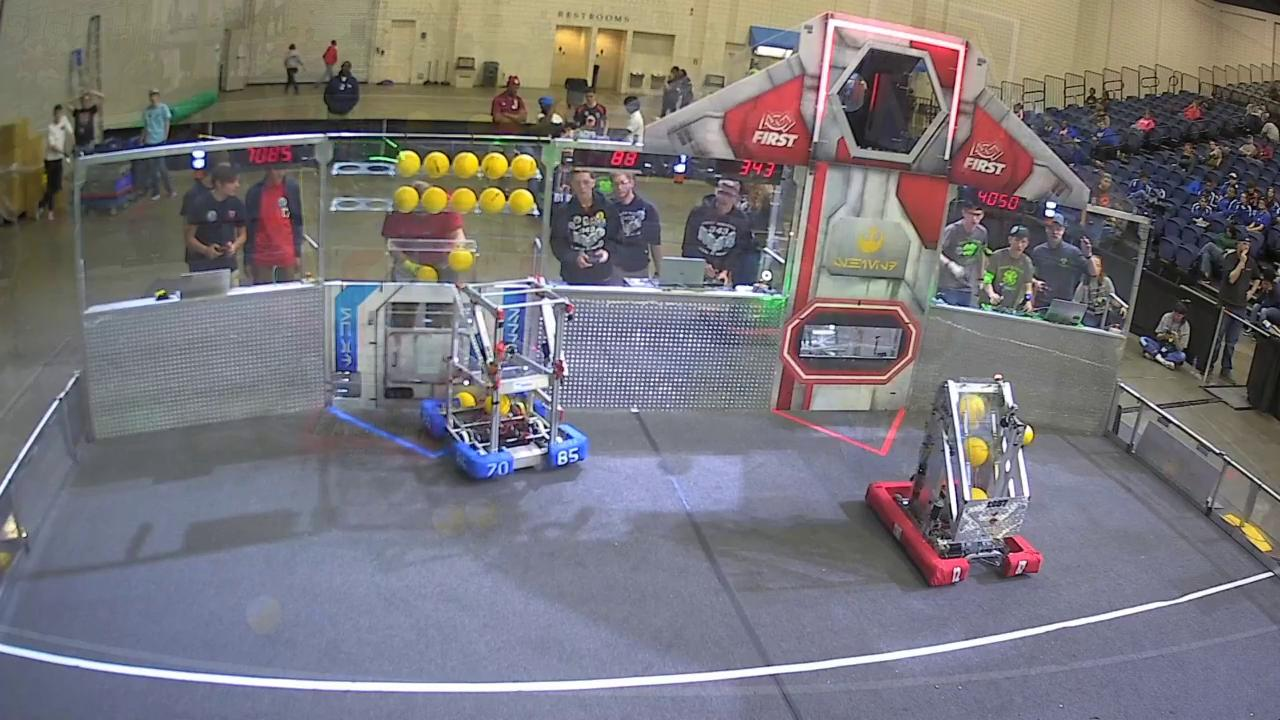robot: (409, 272, 589, 480), (868, 370, 1039, 586)
